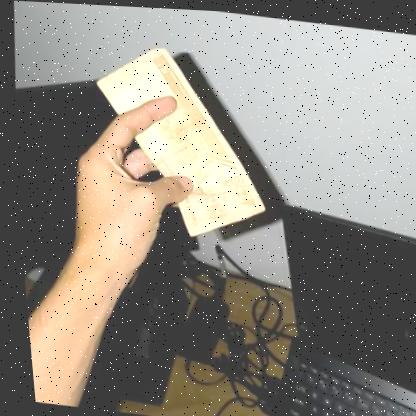five-back-vef: (81, 37, 275, 243)
